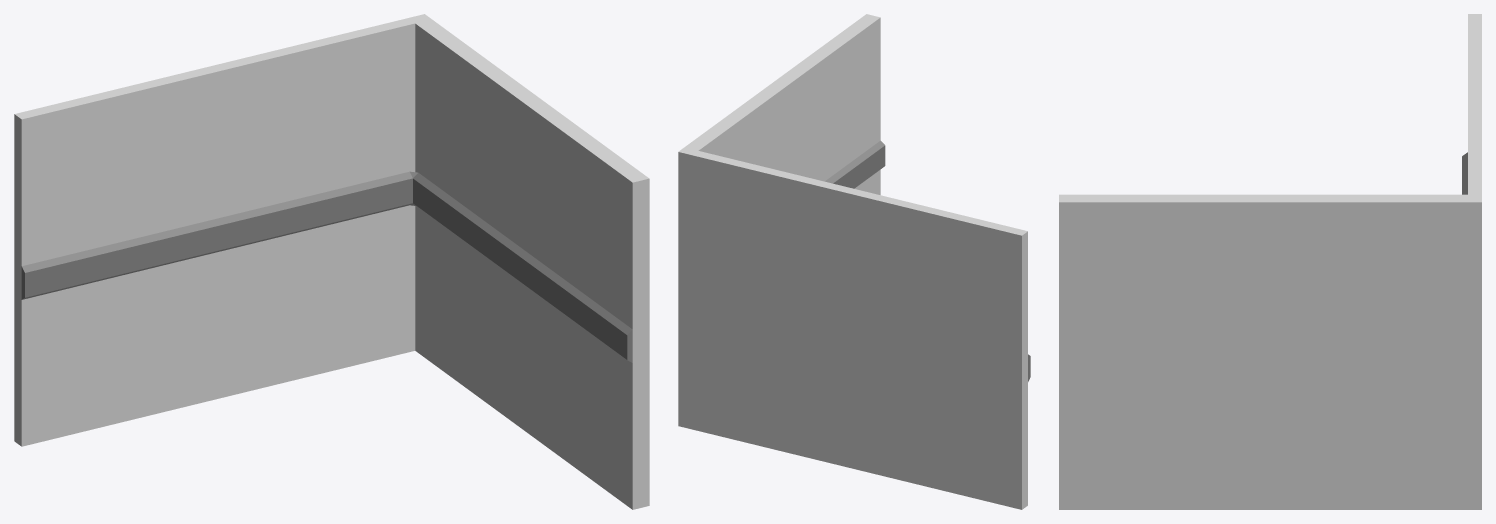
The model's file is Counter_3_C.glb.
The picture shows the model from 3 angles, left to right: view 1: azimuth 30°, elevation 25°; view 2: azimuth 150°, elevation 25°; view 3: azimuth 270°, elevation 25°; orthographic projection. The views are drawn at different scales.
Parts seen in each view (by area): view 1: Counter 3 C; view 2: Counter 3 C; view 3: Counter 3 C.
Part boxes in pixels (x1,y1,x2,y2): Counter 3 C: (14,14,649,509); Counter 3 C: (678,14,1030,509); Counter 3 C: (1059,14,1481,509).
Bounding box in the file's own units: 1 × 0.7623 × 0.949.
Materials: 1 (1 with a texture image).
